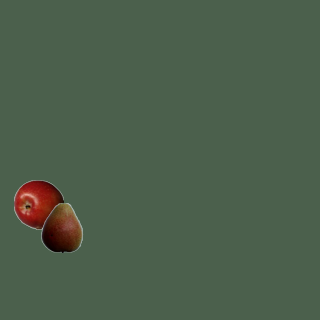Apple Braeburn: (13, 179, 63, 229)
Pear Forelle: (36, 202, 86, 252)
